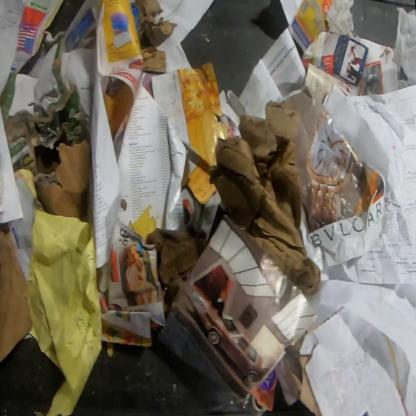cardboard: (209, 101, 321, 298), (0, 30, 91, 177), (0, 222, 33, 366), (34, 140, 90, 224), (144, 228, 209, 289), (285, 353, 323, 415), (134, 0, 180, 46), (140, 45, 166, 74)
soft_plastic: (392, 6, 416, 87)
